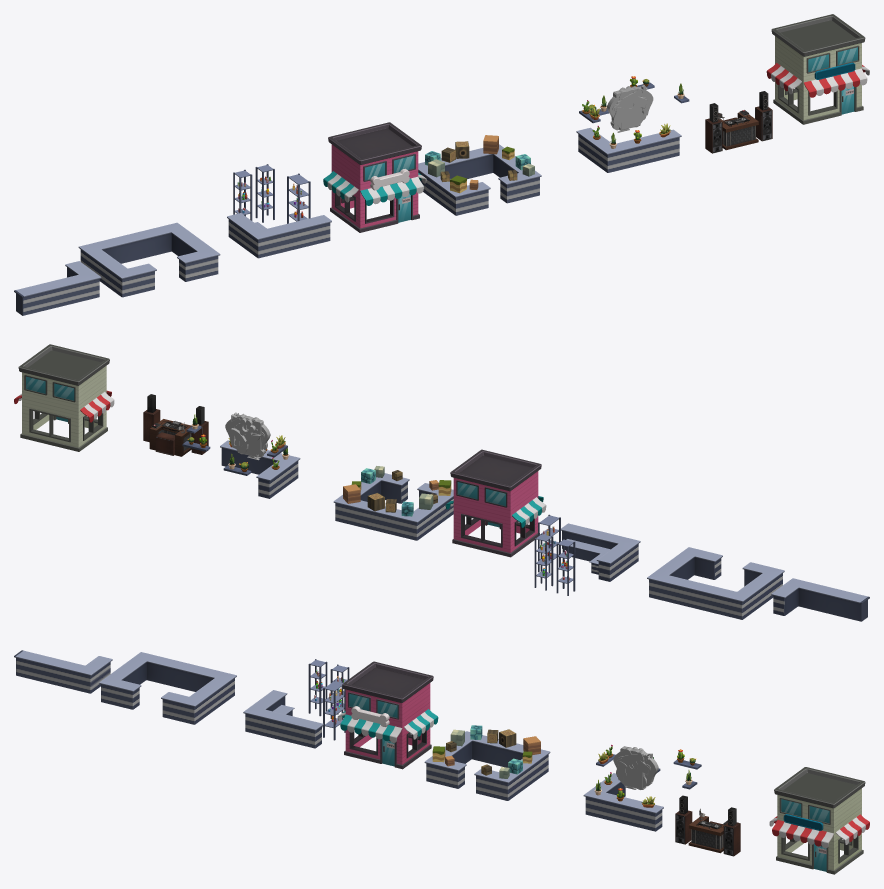
Rendered from QuayDo.fbx.
3 renders of one model, top to bottom at view 1: azimuth 30°, elevation 25°; view 2: azimuth 150°, elevation 25°; view 3: azimuth 330°, elevation 25°, orthographic. The views are drawn at different scales.
Visible parts, largest first — view 1: SHOP_Pet, FASHION_SHOP, Box8_7, Box8_10, Barr, Plant, Box, DJ, Ke2, Ke1, Ke; view 2: SHOP_Pet, FASHION_SHOP, Box8_7, Box8_10, Barr, Box, Plant, DJ, Ke1, Ke, Ke2, Icon_Gas; view 3: SHOP_Pet, FASHION_SHOP, Box8_7, Box8_10, Barr, Box, Plant, DJ, Ke, Ke2, Loa1, Icon_Fashion (+1 smaller).
Part boxes in pixels (box(x1,y1,x2,y2)): SHOP_Pet: box(323, 122, 426, 232); FASHION_SHOP: box(766, 14, 869, 124); Box8_7: box(78, 222, 220, 297); Box8_10: box(418, 144, 541, 215); Barr: box(227, 213, 331, 258); Plant: box(576, 127, 681, 172); Box: box(14, 261, 101, 315); DJ: box(718, 110, 758, 150); Ke2: box(287, 173, 310, 223); Ke1: box(255, 164, 274, 222); Ke: box(233, 169, 252, 220); SHOP_Pet: box(445, 449, 546, 557); FASHION_SHOP: box(14, 344, 114, 451); Box8_7: box(647, 547, 784, 619); Box8_10: box(333, 473, 453, 540); Barr: box(561, 523, 640, 581); Box: box(771, 578, 869, 621); Plant: box(220, 440, 300, 498); DJ: box(149, 419, 191, 456); Ke1: box(534, 533, 553, 590); Ke: box(556, 539, 575, 595); Ke2: box(538, 514, 560, 572); Icon_Gas: box(231, 418, 265, 455); SHOP_Pet: box(337, 661, 438, 769); FASHION_SHOP: box(769, 767, 869, 874); Box8_7: box(99, 652, 236, 724); Box8_10: box(424, 731, 550, 800); Barr: box(243, 690, 323, 748); Box: box(14, 650, 112, 693); Plant: box(583, 773, 663, 831); DJ: box(688, 808, 727, 853); Ke: box(308, 659, 327, 716); Ke2: box(323, 680, 345, 740); Loa1: box(723, 822, 740, 856); Icon_Fashion: box(617, 758, 649, 789).
Size of the model in its own units: 705 by 63.6 by 79.69.
